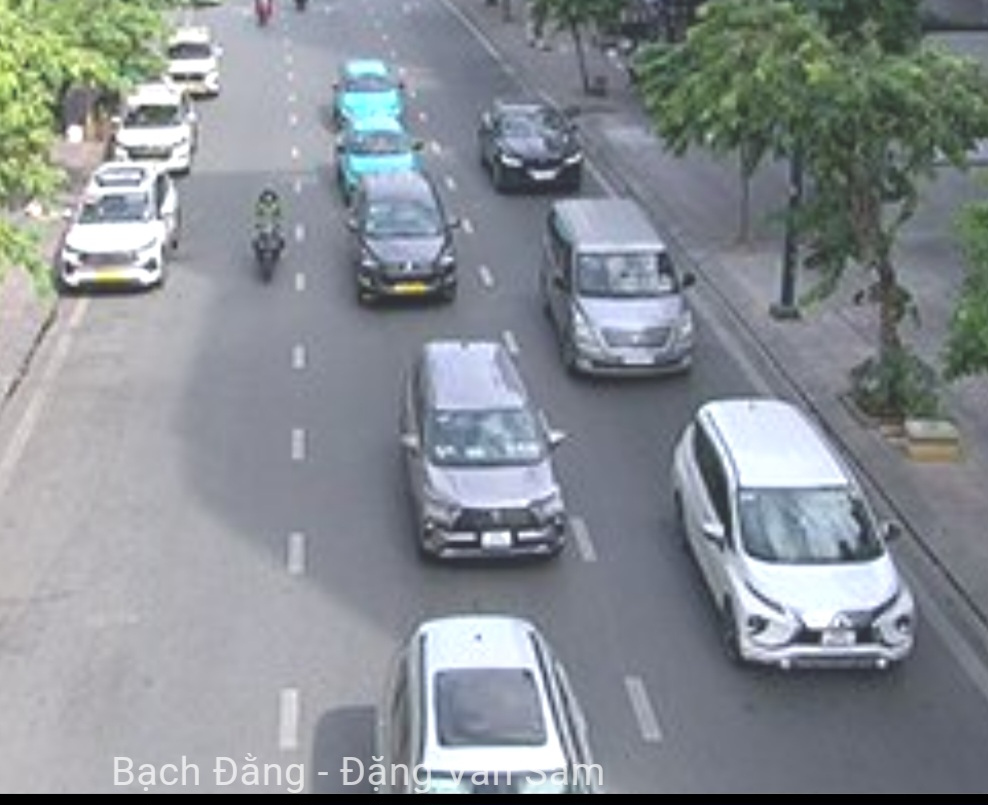car: (670, 396, 915, 676), (376, 615, 598, 805), (396, 348, 572, 563), (546, 200, 698, 378), (56, 162, 179, 296), (351, 173, 458, 302), (476, 97, 585, 194), (111, 85, 193, 169), (324, 58, 407, 124), (328, 126, 422, 178), (162, 25, 220, 93)
